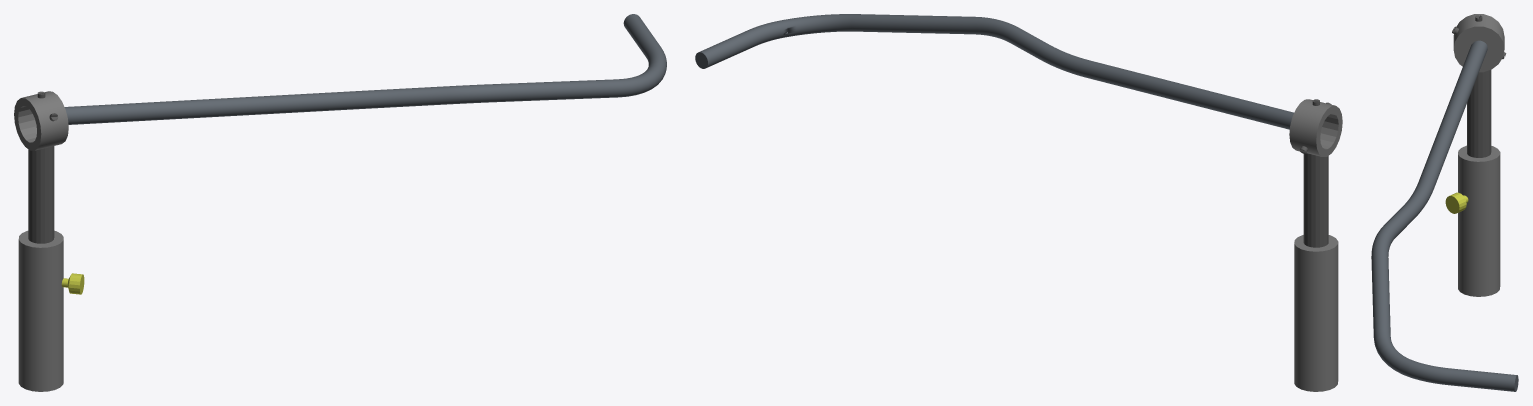
The model's file is Optical_channel_1.glb.
3 views of the same model, side by side, from view 1: azimuth 30°, elevation 25°; view 2: azimuth 150°, elevation 25°; view 3: azimuth 270°, elevation 25° (orthographic). The views are drawn at different scales.
Parts seen in each view (by area): view 1: Line001, Cylinder360, Cylinder032, Object023; view 2: Line001, Cylinder360, Cylinder032, Object023; view 3: Line001, Cylinder360, Cylinder032, Object023, Object024.
Part boxes in pixels (x1,y1,x2,y2): Line001: [64, 14, 666, 124]; Cylinder360: [18, 230, 63, 391]; Cylinder032: [14, 91, 68, 150]; Object023: [28, 146, 54, 243]; Line001: [695, 14, 1293, 129]; Cylinder360: [1294, 235, 1338, 391]; Cylinder032: [1289, 99, 1342, 156]; Object023: [1303, 153, 1328, 247]; Line001: [1371, 40, 1518, 391]; Cylinder360: [1458, 145, 1500, 296]; Cylinder032: [1453, 14, 1504, 72]; Object023: [1467, 70, 1491, 157]; Object024: [1445, 192, 1468, 213].
Bounding box in the file's own units: 16.23 × 7.03 × 3.45.
